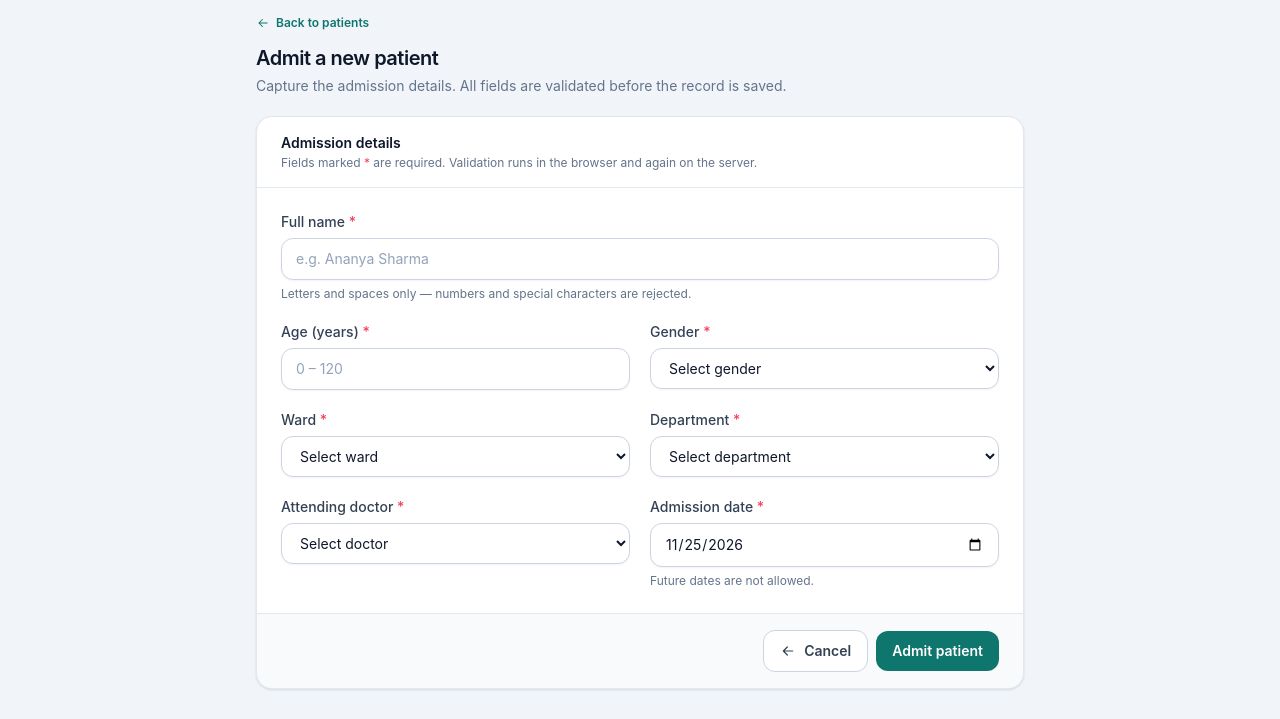
Test case: AddPatientPage › maps backend field errors onto the form and shows the message
The width and height of the screenshot is (1280, 719).
Type "Ananya Sharma" into the field labelled "Full name *" at x=640, y=259, box x1=281 y1=238 x2=999 y2=280
Type "34" into the number field labelled "Age (years) *" at x=456, y=369, box x1=281 y1=348 x2=630 y2=390
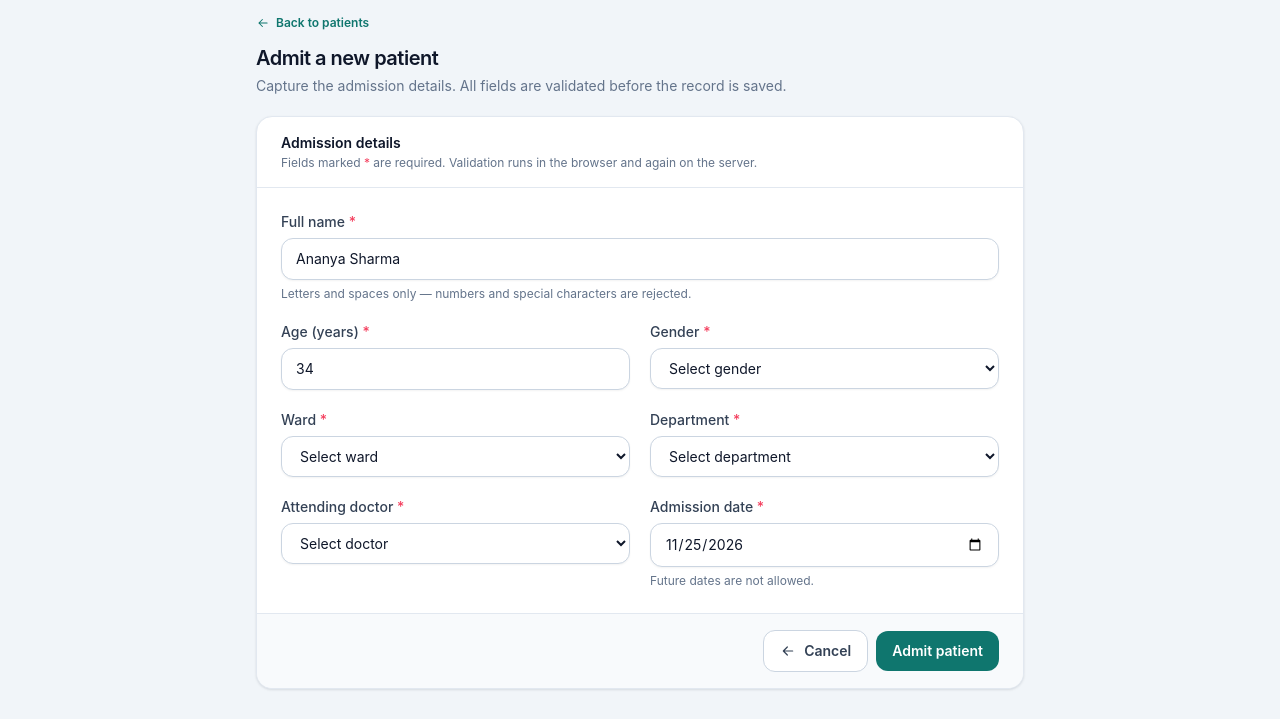
Select "Female" in the dropdown labelled "Gender *" at x=824, y=368, box x1=650 y1=348 x2=999 y2=389
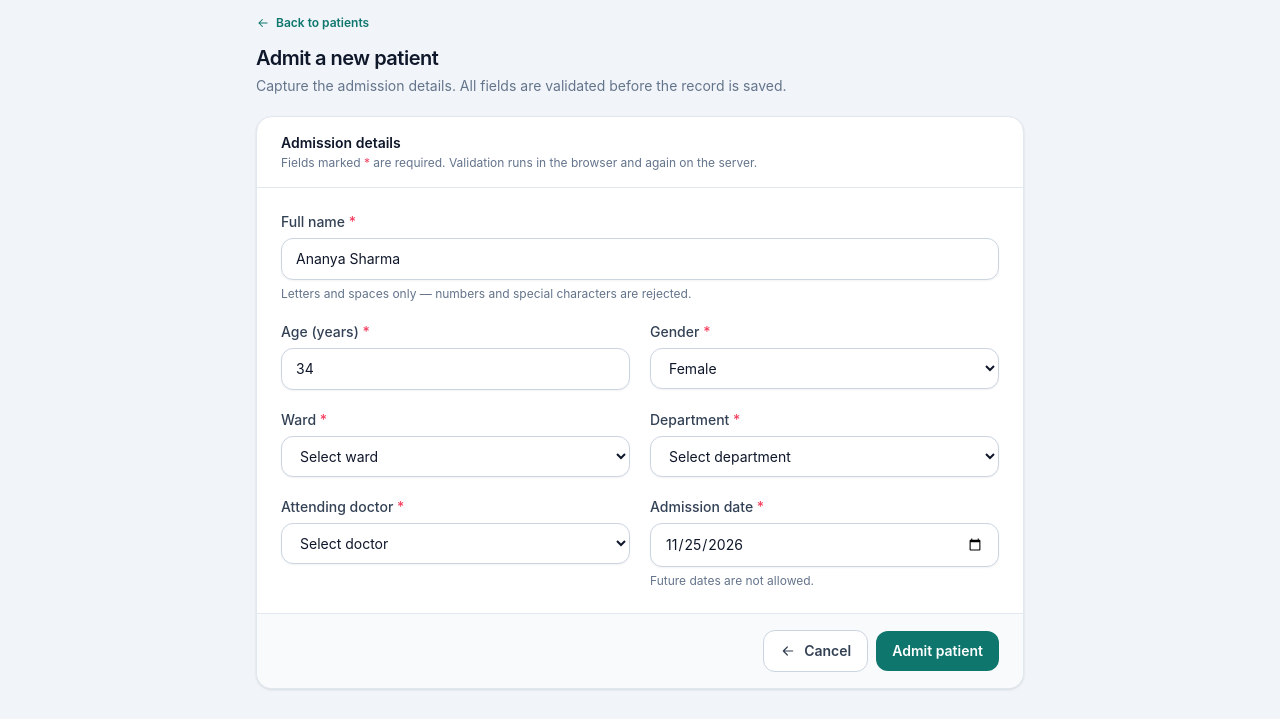
Select "ICU" in the dropdown labelled "Ward *" at x=456, y=456, box x1=281 y1=436 x2=630 y2=477
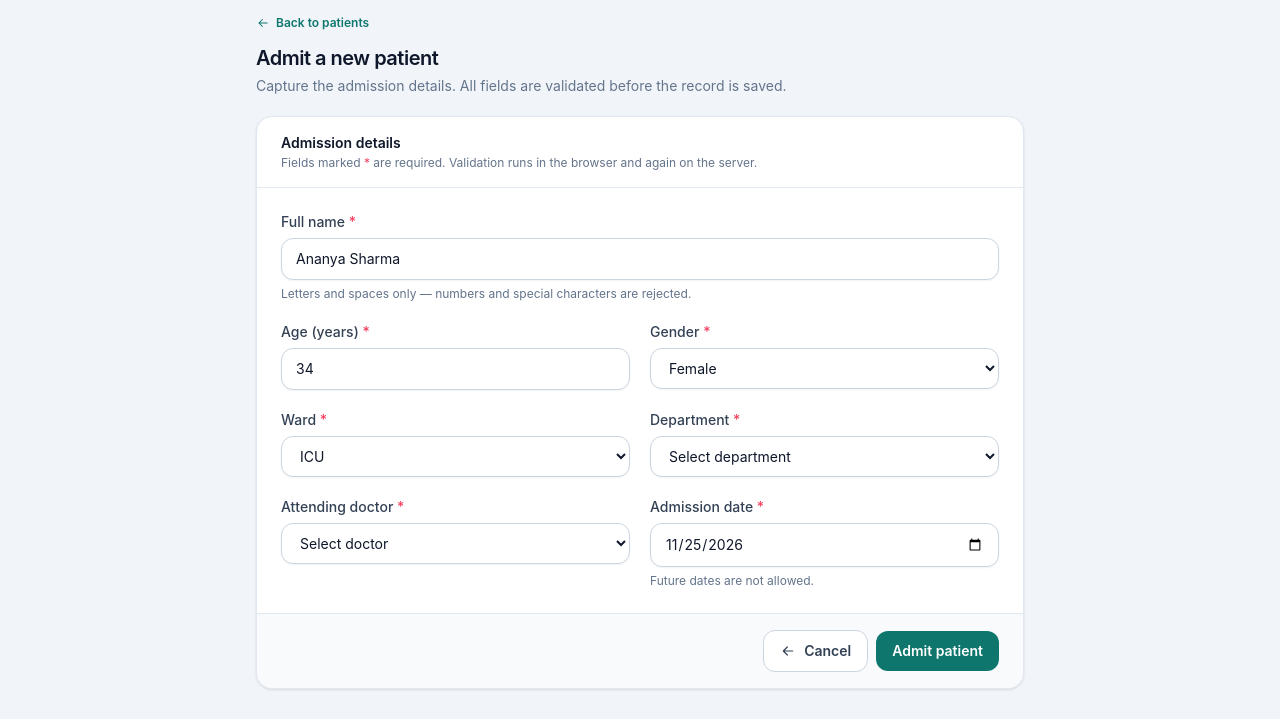
Select "Cardiology" in the dropdown labelled "Department *" at x=824, y=456, box x1=650 y1=436 x2=999 y2=477
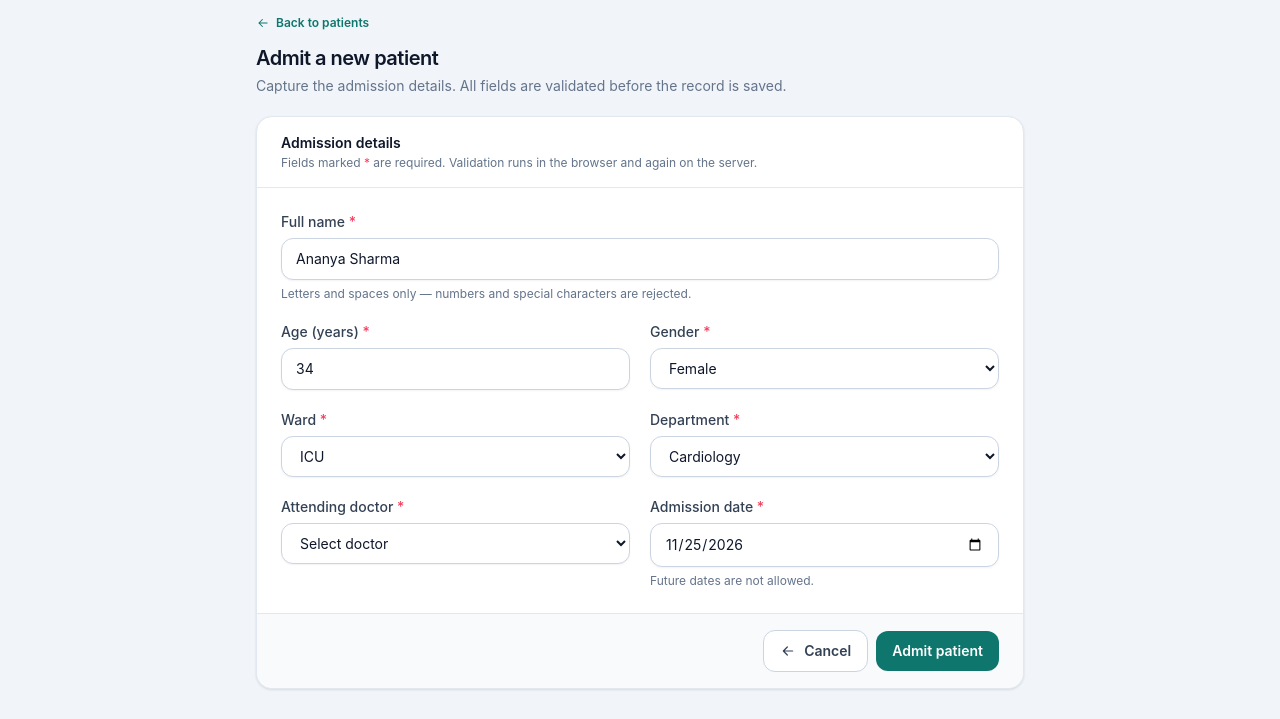
Select "Dr. Aisha Verma" in the dropdown labelled "Attending doctor *" at x=456, y=544, box x1=281 y1=523 x2=630 y2=564
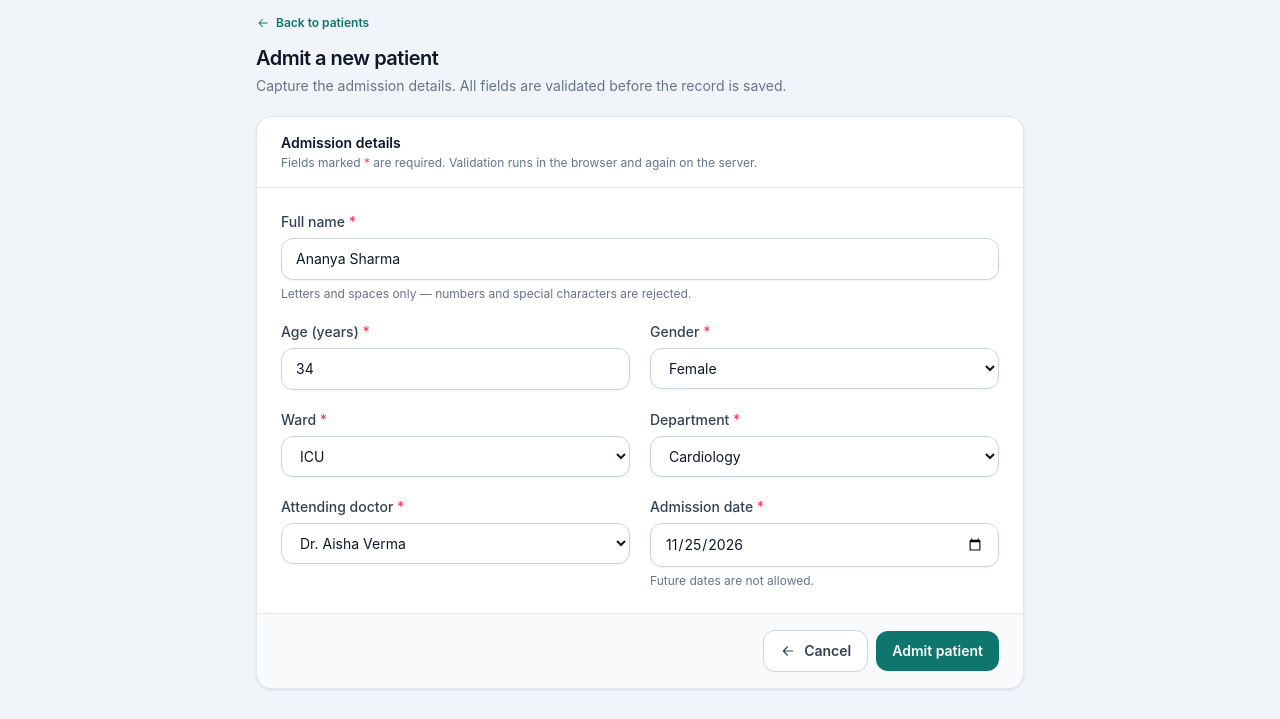
Click the button "Admit patient" at x=938, y=651, box x1=876 y1=631 x2=999 y2=671
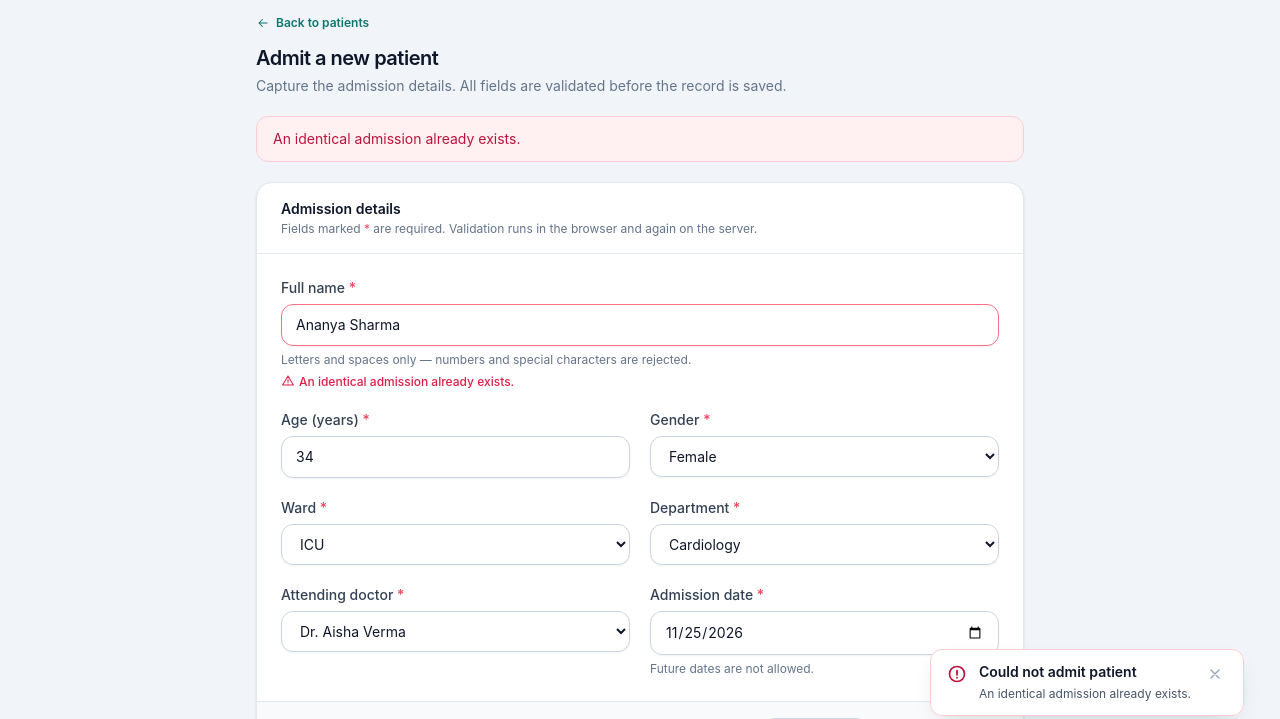
Now the 1st text "An identical admission already exists." is shown, box x1=256 y1=116 x2=1024 y2=162
